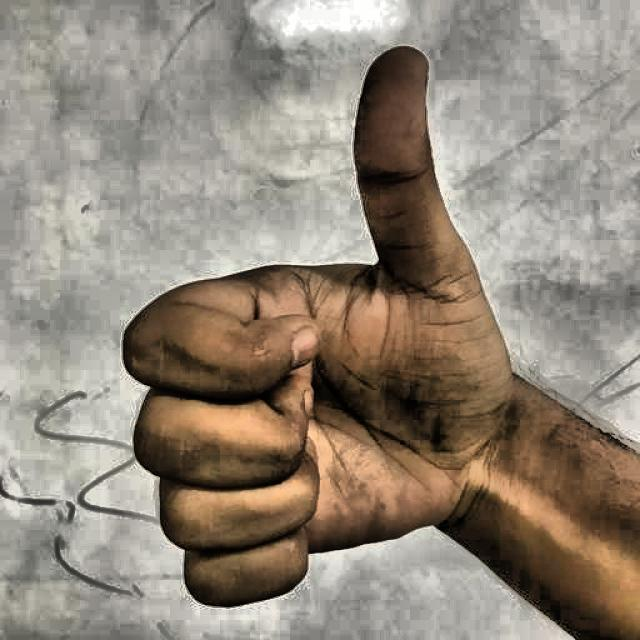Do: (90, 29, 522, 614)
